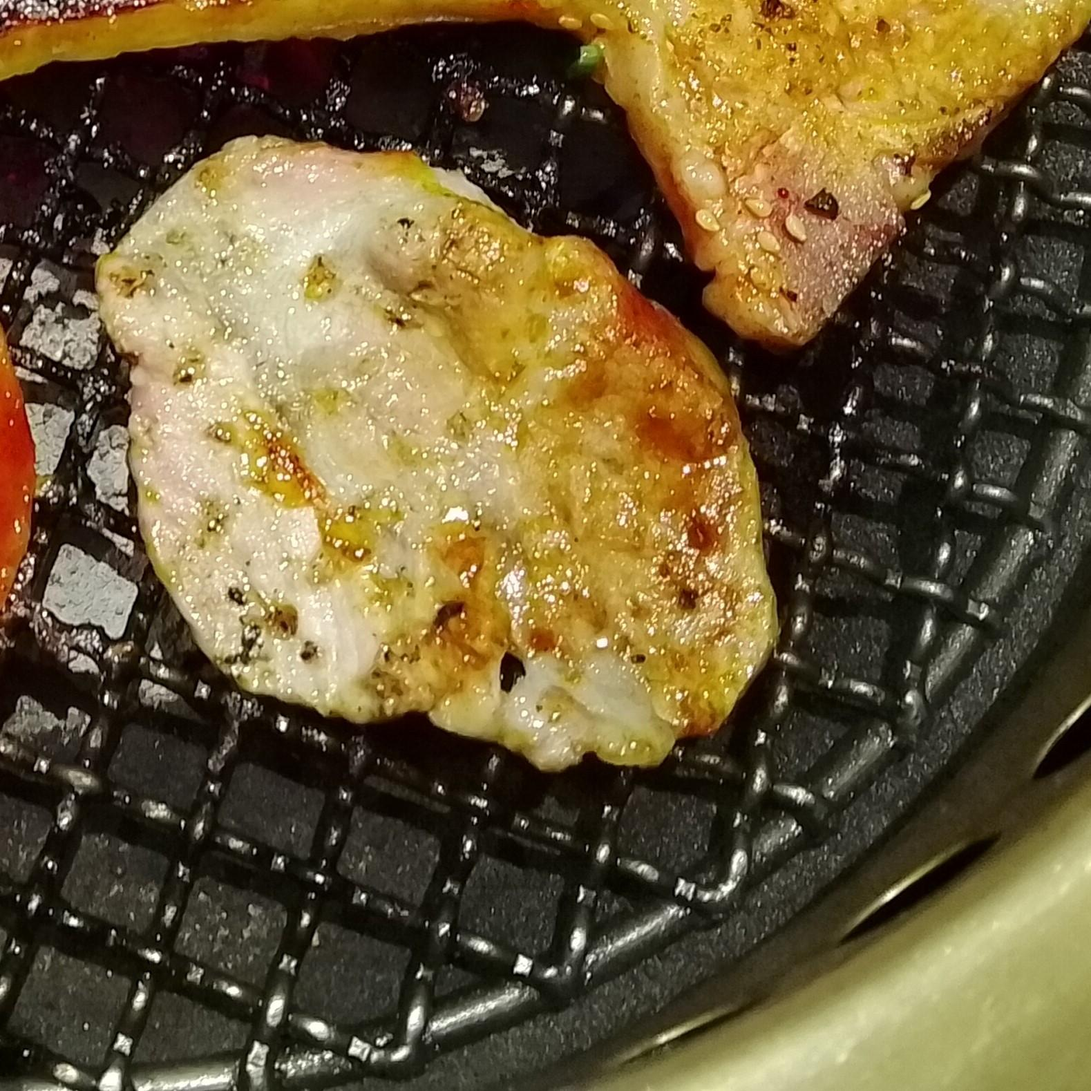Well-Cooked: (97, 136, 776, 770), (0, 0, 1090, 345)
